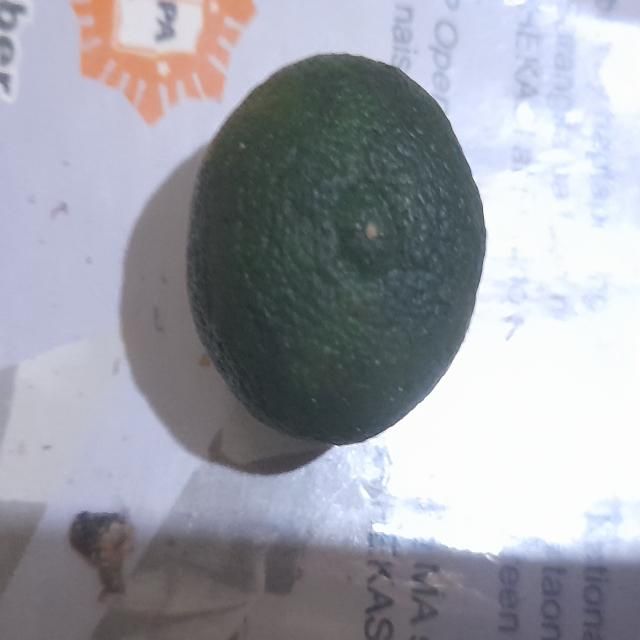heathy: (186, 51, 490, 450)
